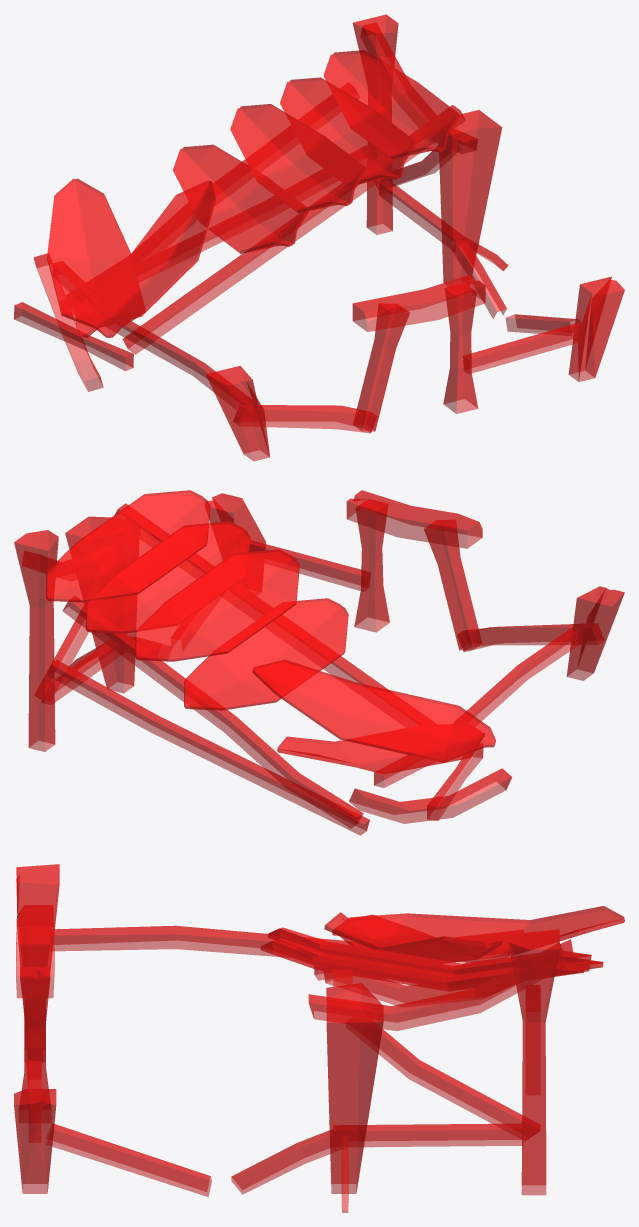
The model's file is Wood_storage_impossible_to_place.fbx.
3 renders of one model, top to bottom at view 1: azimuth 30°, elevation 25°; view 2: azimuth 150°, elevation 25°; view 3: azimuth 270°, elevation 25°, orthographic. The views are drawn at different scales.
Visible parts, largest first — view 1: Cube.016; view 2: Cube.016; view 3: Cube.016.
Part boxes in pixels (x1=…): Cube.016: x1=14, y1=14, x2=624, y2=461; Cube.016: x1=14, y1=490, x2=624, y2=835; Cube.016: x1=14, y1=864, x2=624, y2=1212.
Bounding box in the file's own units: 6 × 6 × 3.
